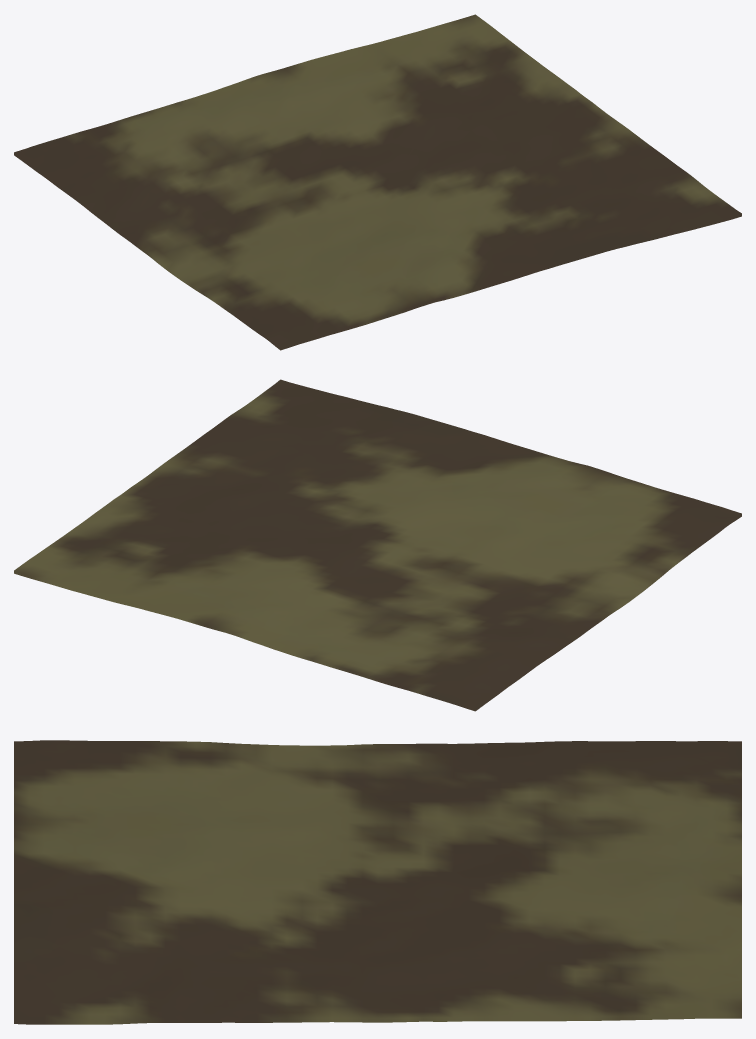
File: land_m_15_03.glb
3 views of the same model, one above another, from view 1: azimuth 30°, elevation 25°; view 2: azimuth 150°, elevation 25°; view 3: azimuth 270°, elevation 25° (orthographic). The views are drawn at different scales.
Visible parts, largest first — view 1: land_m_15_03; view 2: land_m_15_03; view 3: land_m_15_03.
Boxes of the visible parts, x1,y1,x2,y2 form: land_m_15_03: (14,14,741,350); land_m_15_03: (14,379,741,711); land_m_15_03: (14,740,741,1024).
Bounding box in the file's own units: 960 × 62.49 × 960.
